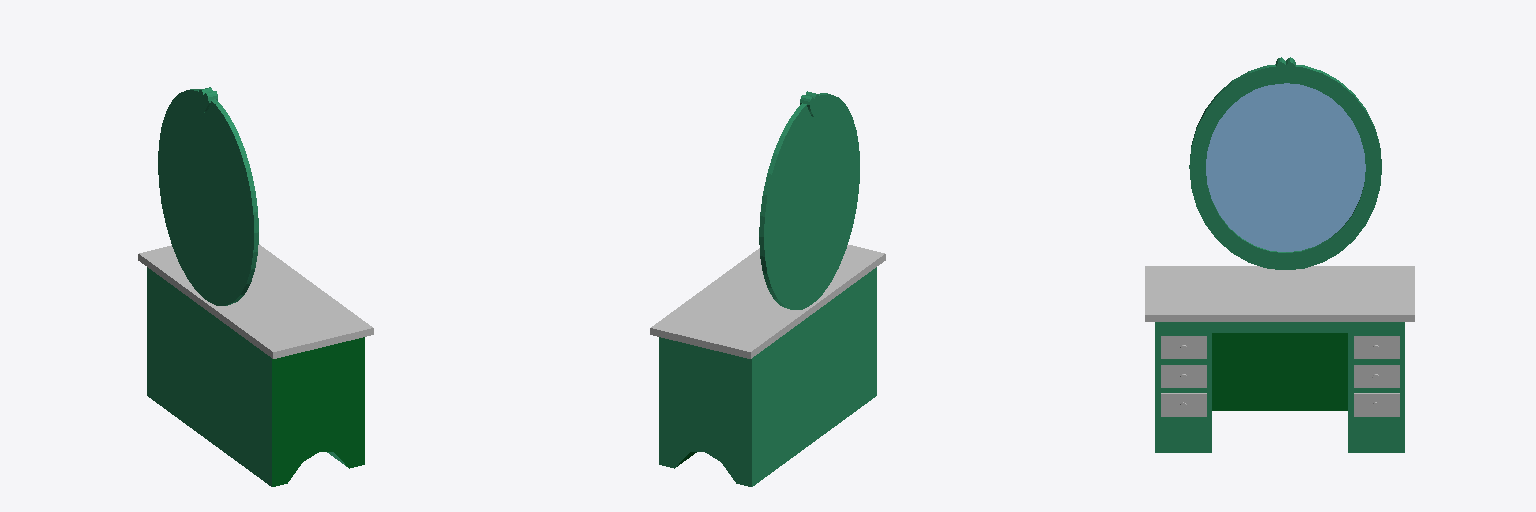
The picture shows the model from 3 angles: view 1: azimuth 30°, elevation 25°; view 2: azimuth 150°, elevation 25°; view 3: azimuth 270°, elevation 25°; orthographic projection.
Parts seen in each view (by area): view 1: Cube.017_Cube.044, Cilindro.001; view 2: Cube.017_Cube.044, Cilindro.001; view 3: Cube.017_Cube.044, Cilindro.001.
Boxes of the visible parts, x1=… form: Cube.017_Cube.044: x1=138, y1=244, x2=373, y2=486; Cilindro.001: x1=158, y1=87, x2=258, y2=305; Cube.017_Cube.044: x1=650, y1=245, x2=885, y2=486; Cilindro.001: x1=759, y1=91, x2=859, y2=309; Cube.017_Cube.044: x1=1145, y1=266, x2=1414, y2=452; Cilindro.001: x1=1189, y1=57, x2=1381, y2=269.
Bounding box in the file's own units: 6 × 19.97 × 14.
3 materials, 2 textured.